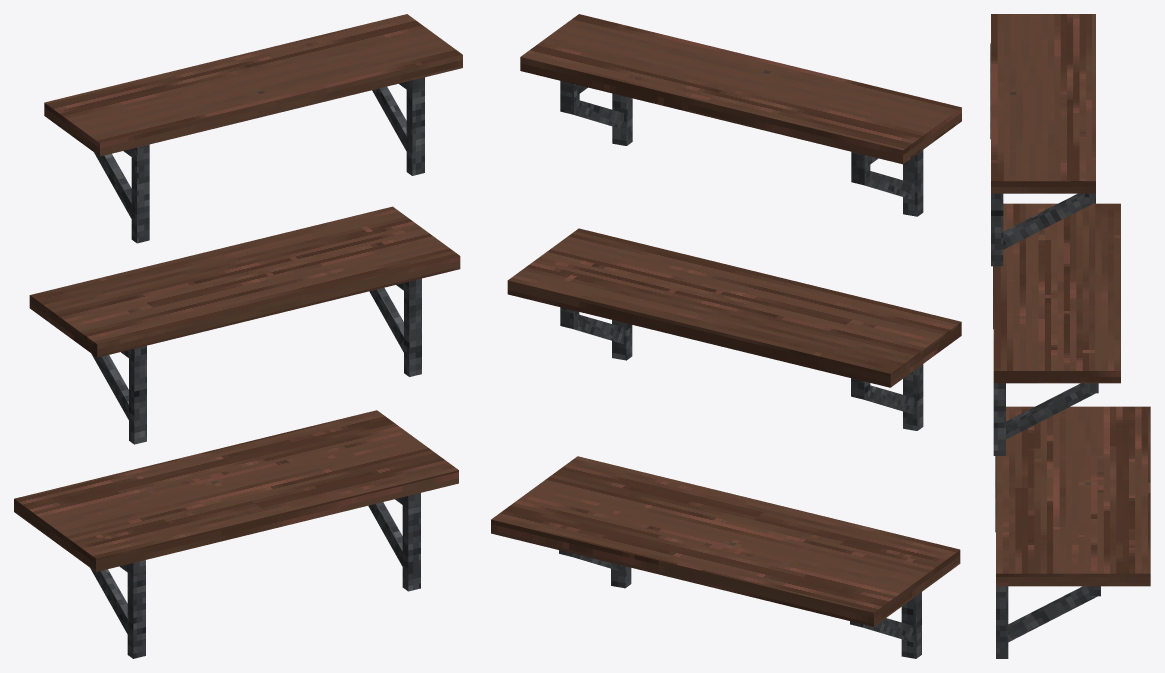
Rendered from shelf_final.fbx.
3 renders of one model, left to right at view 1: azimuth 30°, elevation 25°; view 2: azimuth 150°, elevation 25°; view 3: azimuth 270°, elevation 25°, orthographic. The views are drawn at different scales.
Parts seen in each view (by area): view 1: model; view 2: model; view 3: model.
Boxes of the visible parts, x1,y1,x2,y2 form: model: (14, 14, 462, 658); model: (491, 14, 961, 658); model: (990, 14, 1150, 658).
Size of the model in its own units: 99.15 by 137 by 40.08.
